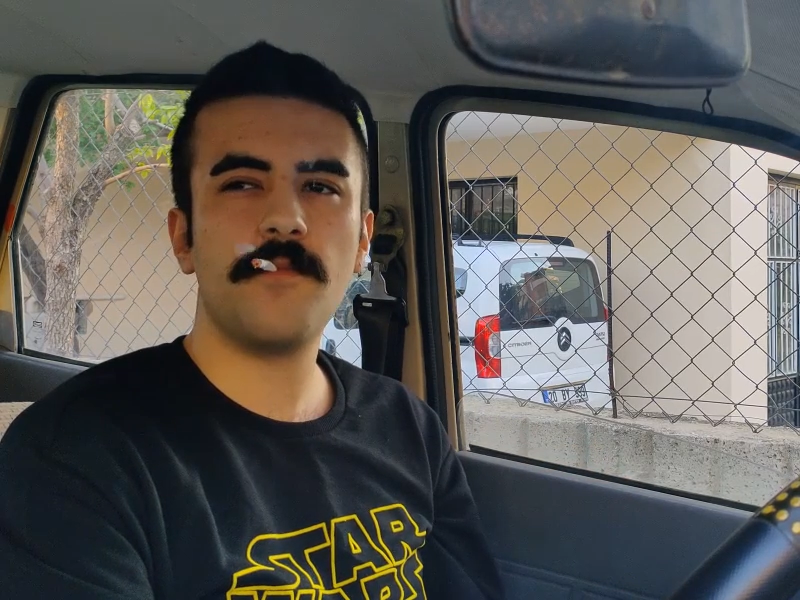sigara: (247, 255, 282, 276)
